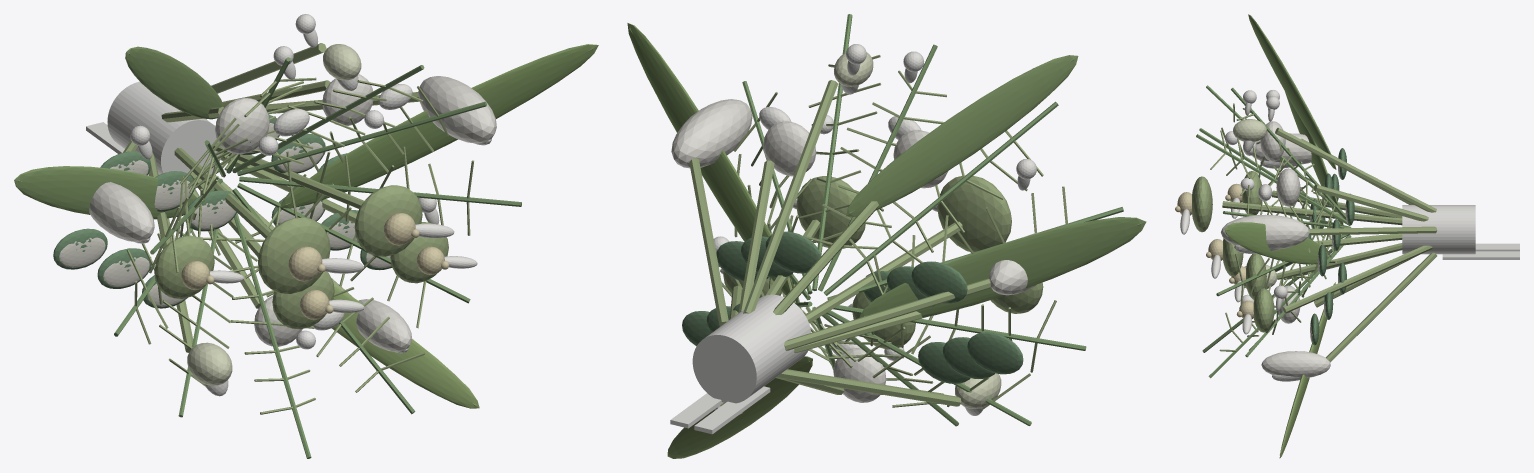
File: bouquet.glb
3 renders of one model, left to right at view 1: azimuth 30°, elevation 25°; view 2: azimuth 150°, elevation 25°; view 3: azimuth 270°, elevation 25°, orthographic. The views are drawn at different scales.
Parts seen in each view (by area): view 1: Long_leaf_right, White_ribbon_wrap, Long_leaf_left, Long_leaf_back, Long_leaf_front, Gerbera_0_receptacle, Tulip_9_core, Gerbera_1_receptacle, Tulip_8_core, Gerbera_2_receptacle, Rose_5_base, Tulip_10_core (+33 smaller); view 2: Long_leaf_back, Long_leaf_left, White_ribbon_wrap, Long_leaf_right, Gerbera_0_receptacle, Tulip_9_core, Long_leaf_front, Stem_12, Gerbera_1_receptacle, Stem_8, Stem_11, Rose_6_base (+31 smaller); view 3: White_ribbon_wrap, Long_leaf_right, Long_leaf_back, Tulip_9_core, Tulip_10_core, Stem_12, Stem_4, Stem_0, Stem_10, Gerbera_0_receptacle, Stem_9, Long_leaf_front (+22 smaller).
Boxes of the visible parts, x1,y1,x2,y2 form: Long_leaf_right: (280,44,598,208); White_ribbon_wrap: (107,81,220,174); Long_leaf_left: (14,166,196,219); Long_leaf_back: (125,46,223,119); Long_leaf_front: (257,257,479,408); Gerbera_0_receptacle: (258,217,330,293); Tulip_9_core: (418,76,496,143); Gerbera_1_receptacle: (354,185,422,256); Tulip_8_core: (89,182,154,241); Gerbera_2_receptacle: (154,235,214,298); Rose_5_base: (215,97,269,154); Tulip_10_core: (356,299,412,351); Long_leaf_back: (846,55,1078,216); Long_leaf_left: (859,217,1146,317); White_ribbon_wrap: (692,294,811,403); Long_leaf_right: (627,23,798,302); Gerbera_0_receptacle: (937,175,1011,252); Tulip_9_core: (671,99,752,168); Long_leaf_front: (667,356,812,458); Stem_12: (743,80,837,313); Gerbera_1_receptacle: (796,176,865,248); Stem_8: (784,278,990,350); Stem_11: (776,369,961,406); Rose_6_base: (763,121,816,176); White_ribbon_wrap: (1402,205,1475,254); Long_leaf_right: (1225,222,1328,264); Long_leaf_back: (1248,14,1336,169); Tulip_9_core: (1221,214,1309,249); Tulip_10_core: (1261,351,1330,377); Stem_12: (1275,128,1436,212); Stem_4: (1283,245,1432,313); Stem_0: (1222,201,1402,225); Stem_10: (1326,252,1437,362); Gerbera_0_receptacle: (1192,176,1212,232); Stem_9: (1308,226,1437,235); Long_leaf_front: (1279,282,1335,458).
Bounding box in the file's own units: 0.5594 × 0.4565 × 0.447.
